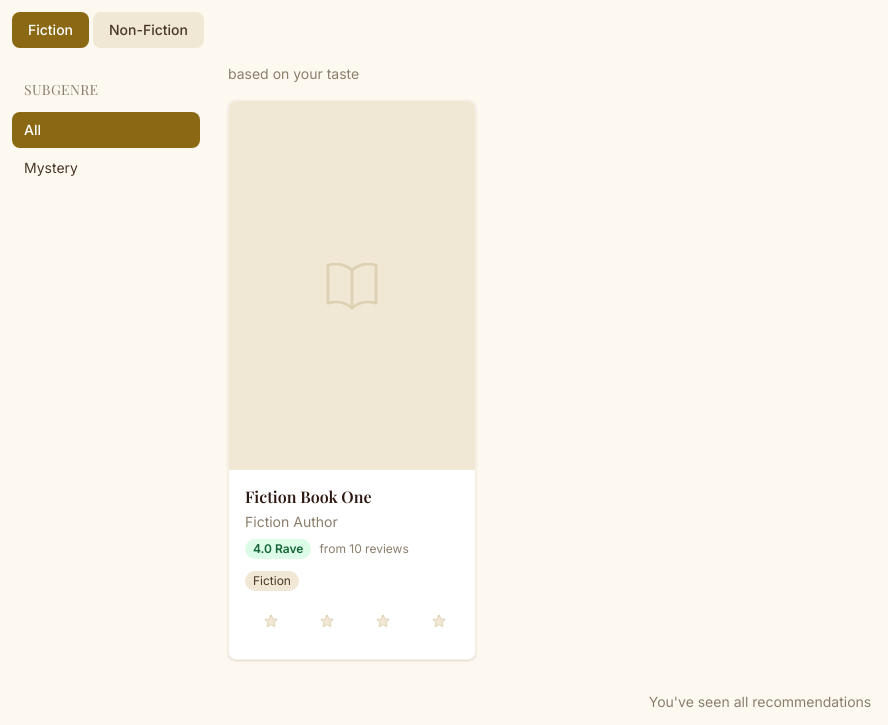
RecommendationGrid › renders nonfiction tab when clicked
Expected: the heading "Fiction Book One" is shown, [245, 486, 372, 507]
Click the tab "Non-Fiction": [148, 30] box [93, 12, 204, 48]
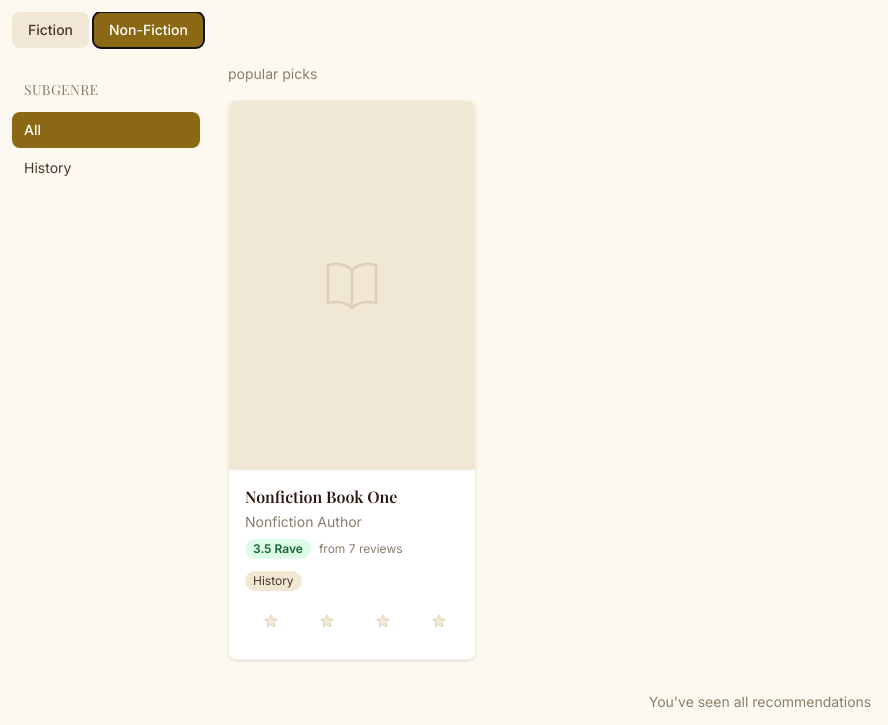
Expected: the heading "Nonfiction Book One" is shown, [245, 486, 397, 507]
